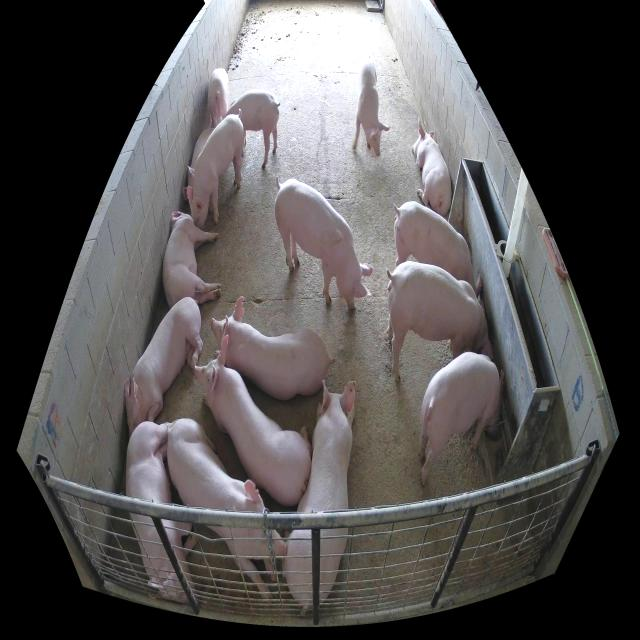pig: (167, 418, 287, 600), (194, 333, 311, 504), (282, 377, 356, 609), (126, 416, 204, 605), (386, 261, 494, 381), (274, 179, 373, 309), (211, 294, 330, 396), (418, 351, 504, 487), (125, 299, 202, 438), (394, 202, 483, 298), (187, 113, 244, 229), (162, 211, 222, 307), (226, 89, 280, 170), (411, 124, 452, 217), (352, 56, 390, 156), (207, 69, 229, 126), (190, 127, 214, 168)
